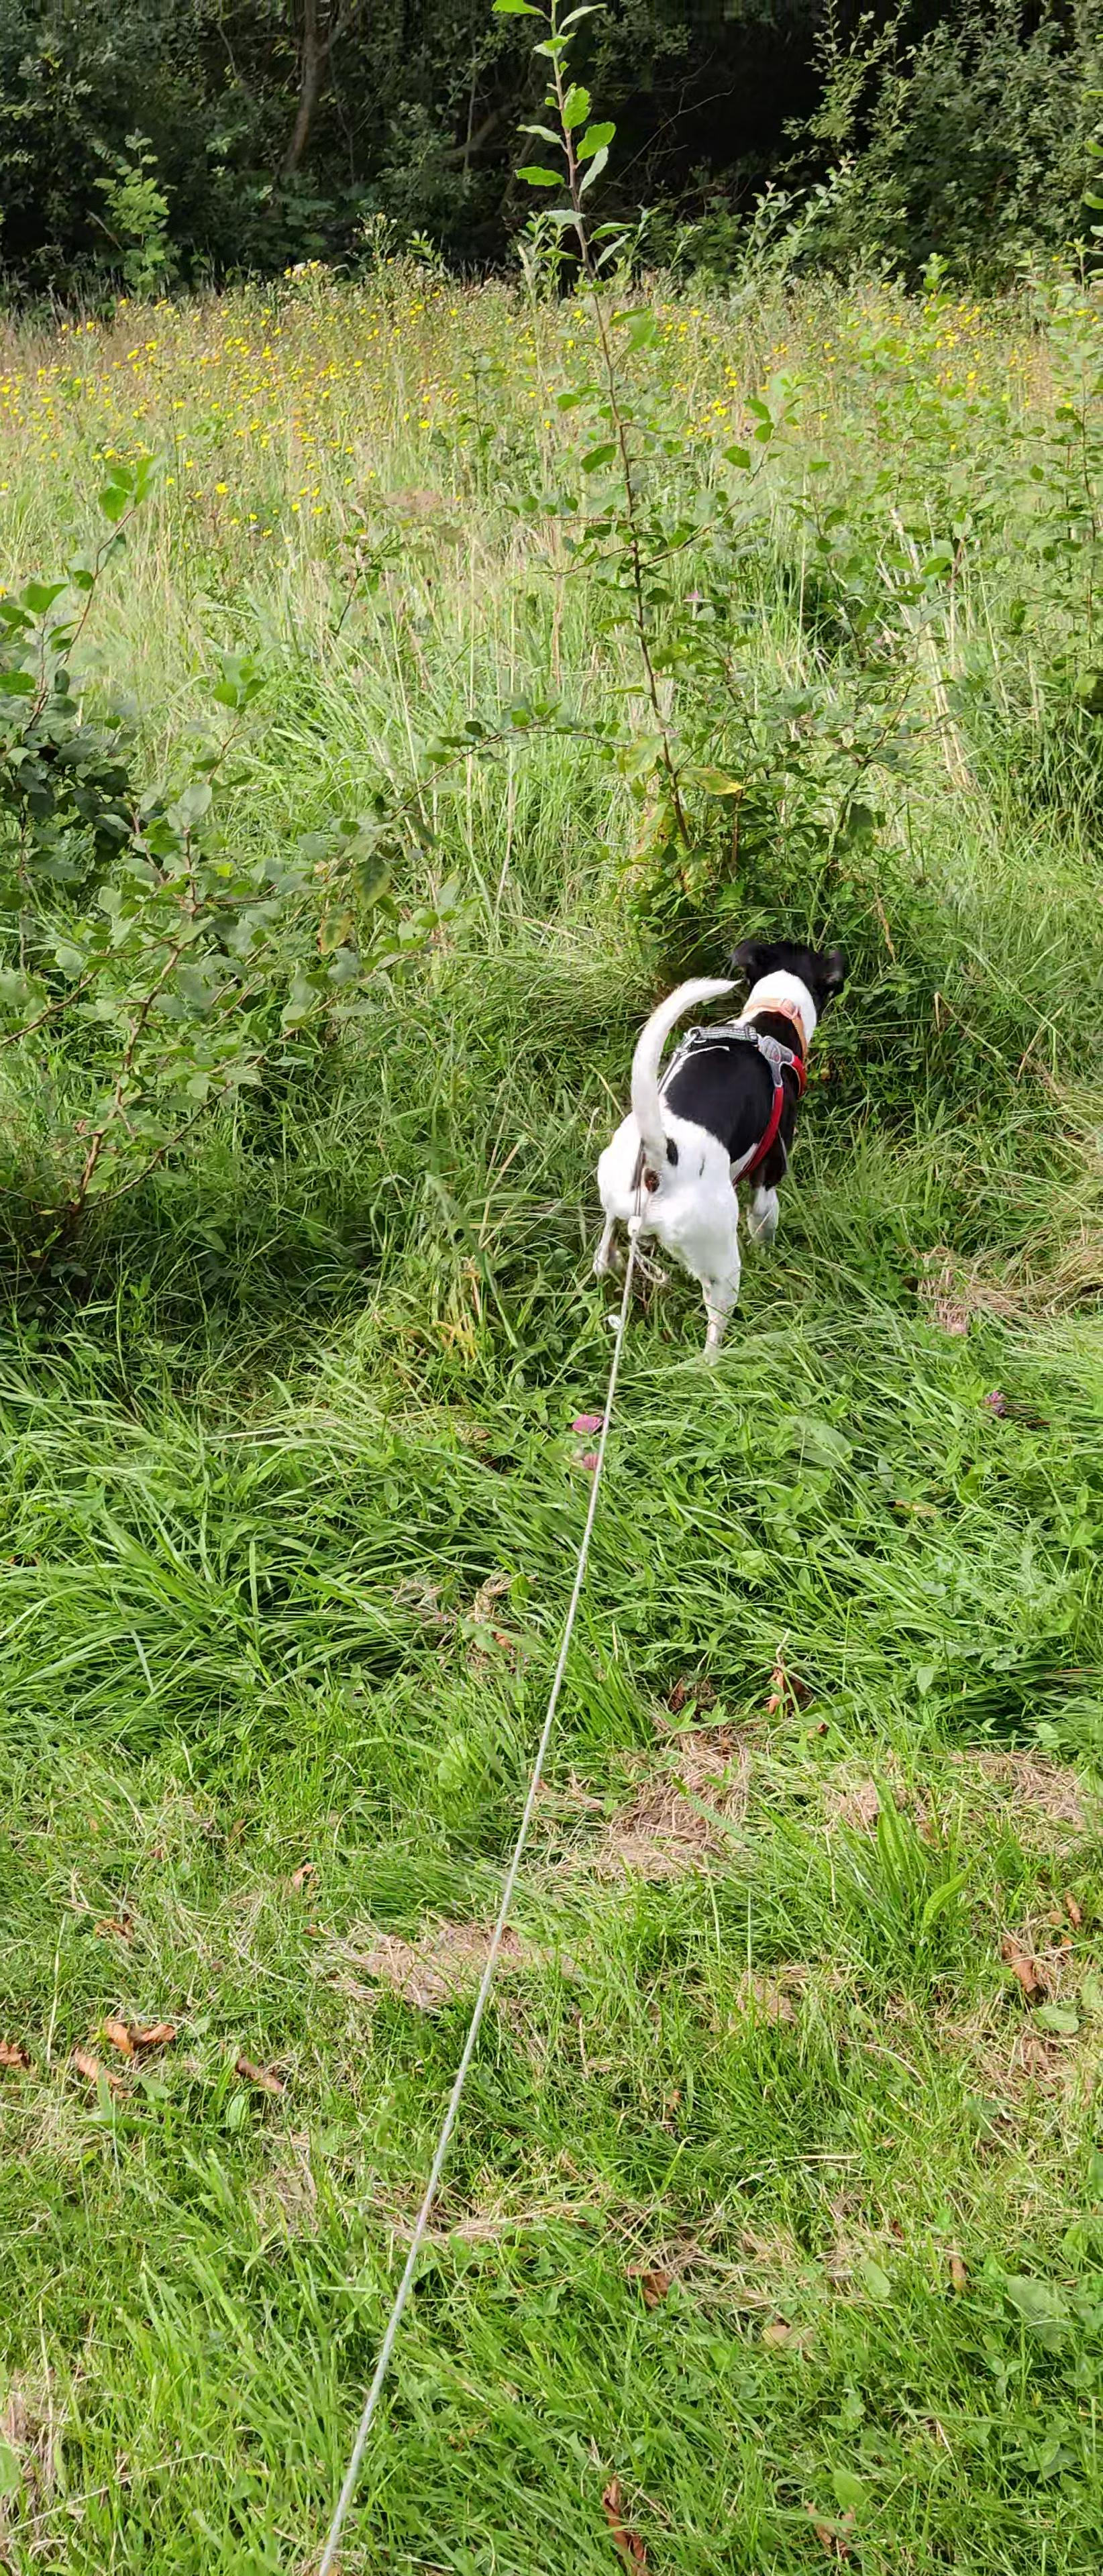Dog: (584, 931, 850, 1373)
